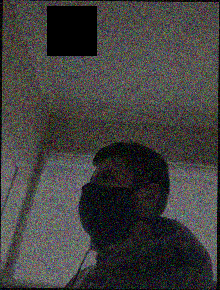with_mask: (78, 167, 135, 243)
